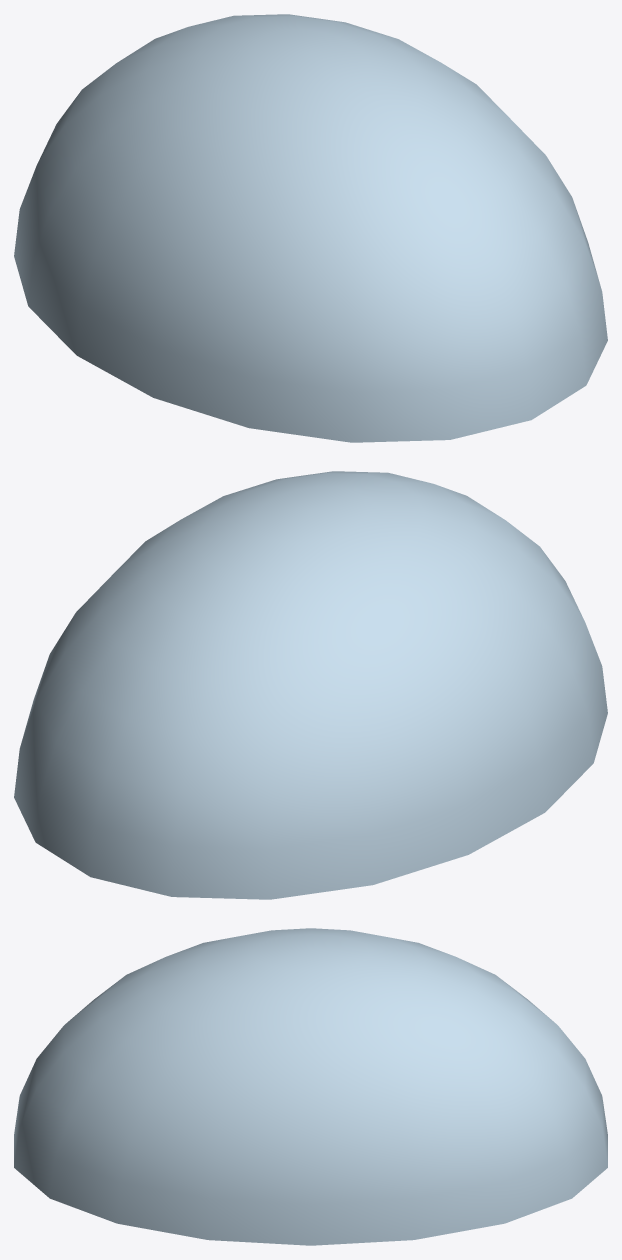
Rendered from canopy.glb.
3 views of the same model, one above another, from view 1: azimuth 30°, elevation 25°; view 2: azimuth 150°, elevation 25°; view 3: azimuth 270°, elevation 25° (orthographic). The views are drawn at different scales.
Visible parts, largest first — view 1: canopy; view 2: canopy; view 3: canopy.
Boxes of the visible parts, x1,y1,x2,y2 form: canopy: [14, 14, 607, 442]; canopy: [14, 471, 607, 899]; canopy: [14, 928, 607, 1245].
Bounding box in the file's own units: 1 × 0.5 × 1.33.
